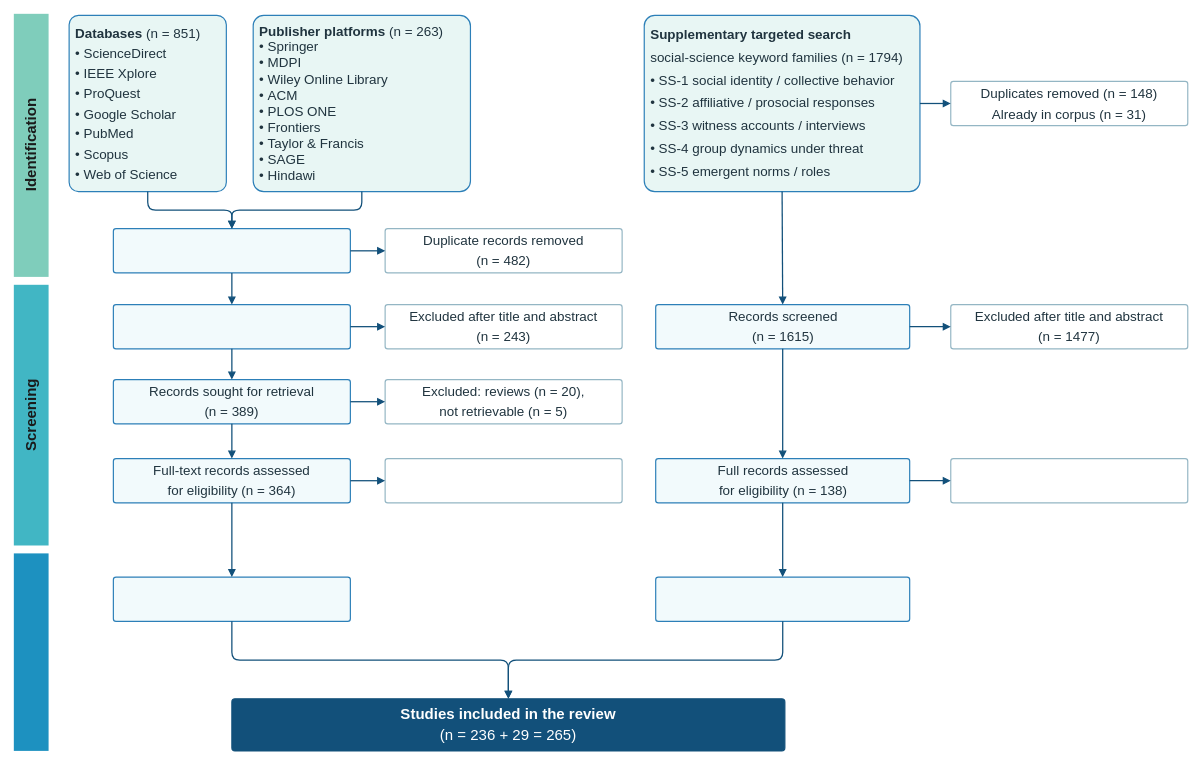
This 1202x765 diagram has some shape labels left out. Each missing label, with the centre of its shape:
"Excluded after assessment (n = 109)" goes at [1069,480].
"Excluded after full-text review (n = 128)" goes at [503,480].
"Included" goes at [30,651].
"Included from the original search (n = 236)" goes at [231,599].
"Included from the supplementary search (n = 29)" goes at [782,599].
"Records identified (n = 1114)" goes at [231,250].
"Records screened (n = 632)" goes at [231,326].
